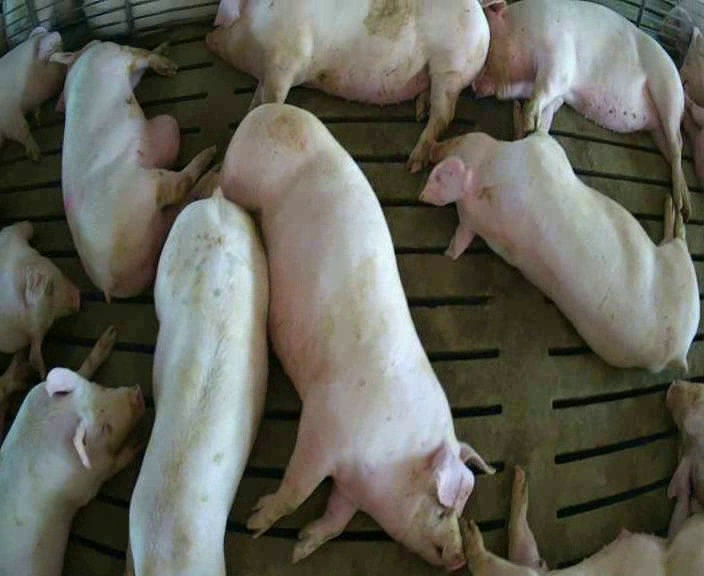pig: (420, 96, 699, 371), (129, 189, 265, 574), (207, 2, 489, 171), (473, 2, 688, 216), (50, 41, 223, 301), (0, 327, 143, 574), (461, 466, 703, 575), (0, 221, 79, 377), (0, 27, 65, 159)
